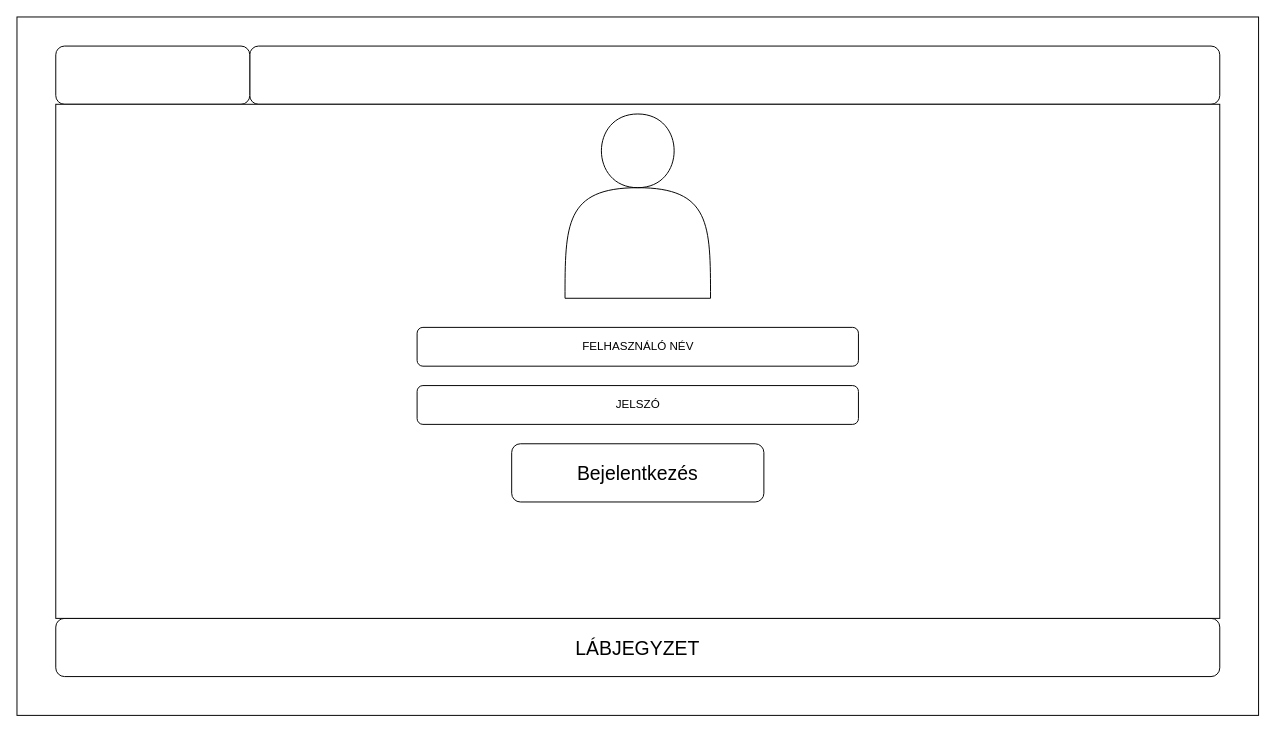
This 1276x732 diagram has some shape labels left out. Each missing label, with the box of its shape:
LOGÓ ÉS CÉGNÉV: (55, 45, 250, 104)
MENÜSÁV: (249, 45, 1220, 104)
